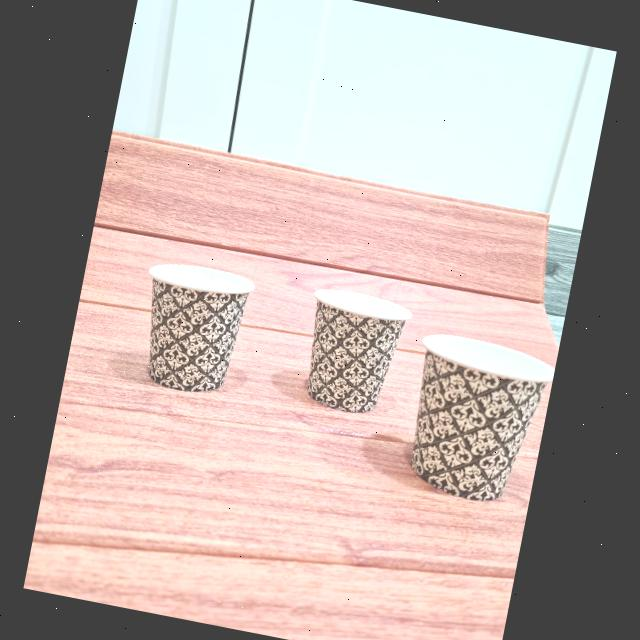trash: (394, 328, 558, 512), (124, 252, 260, 404), (288, 280, 409, 418)
